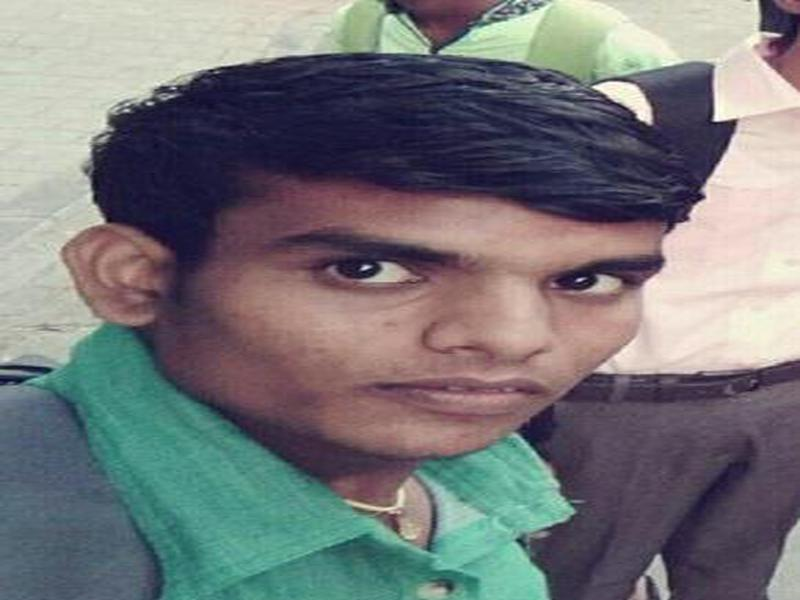without_mask: (158, 155, 670, 467)
